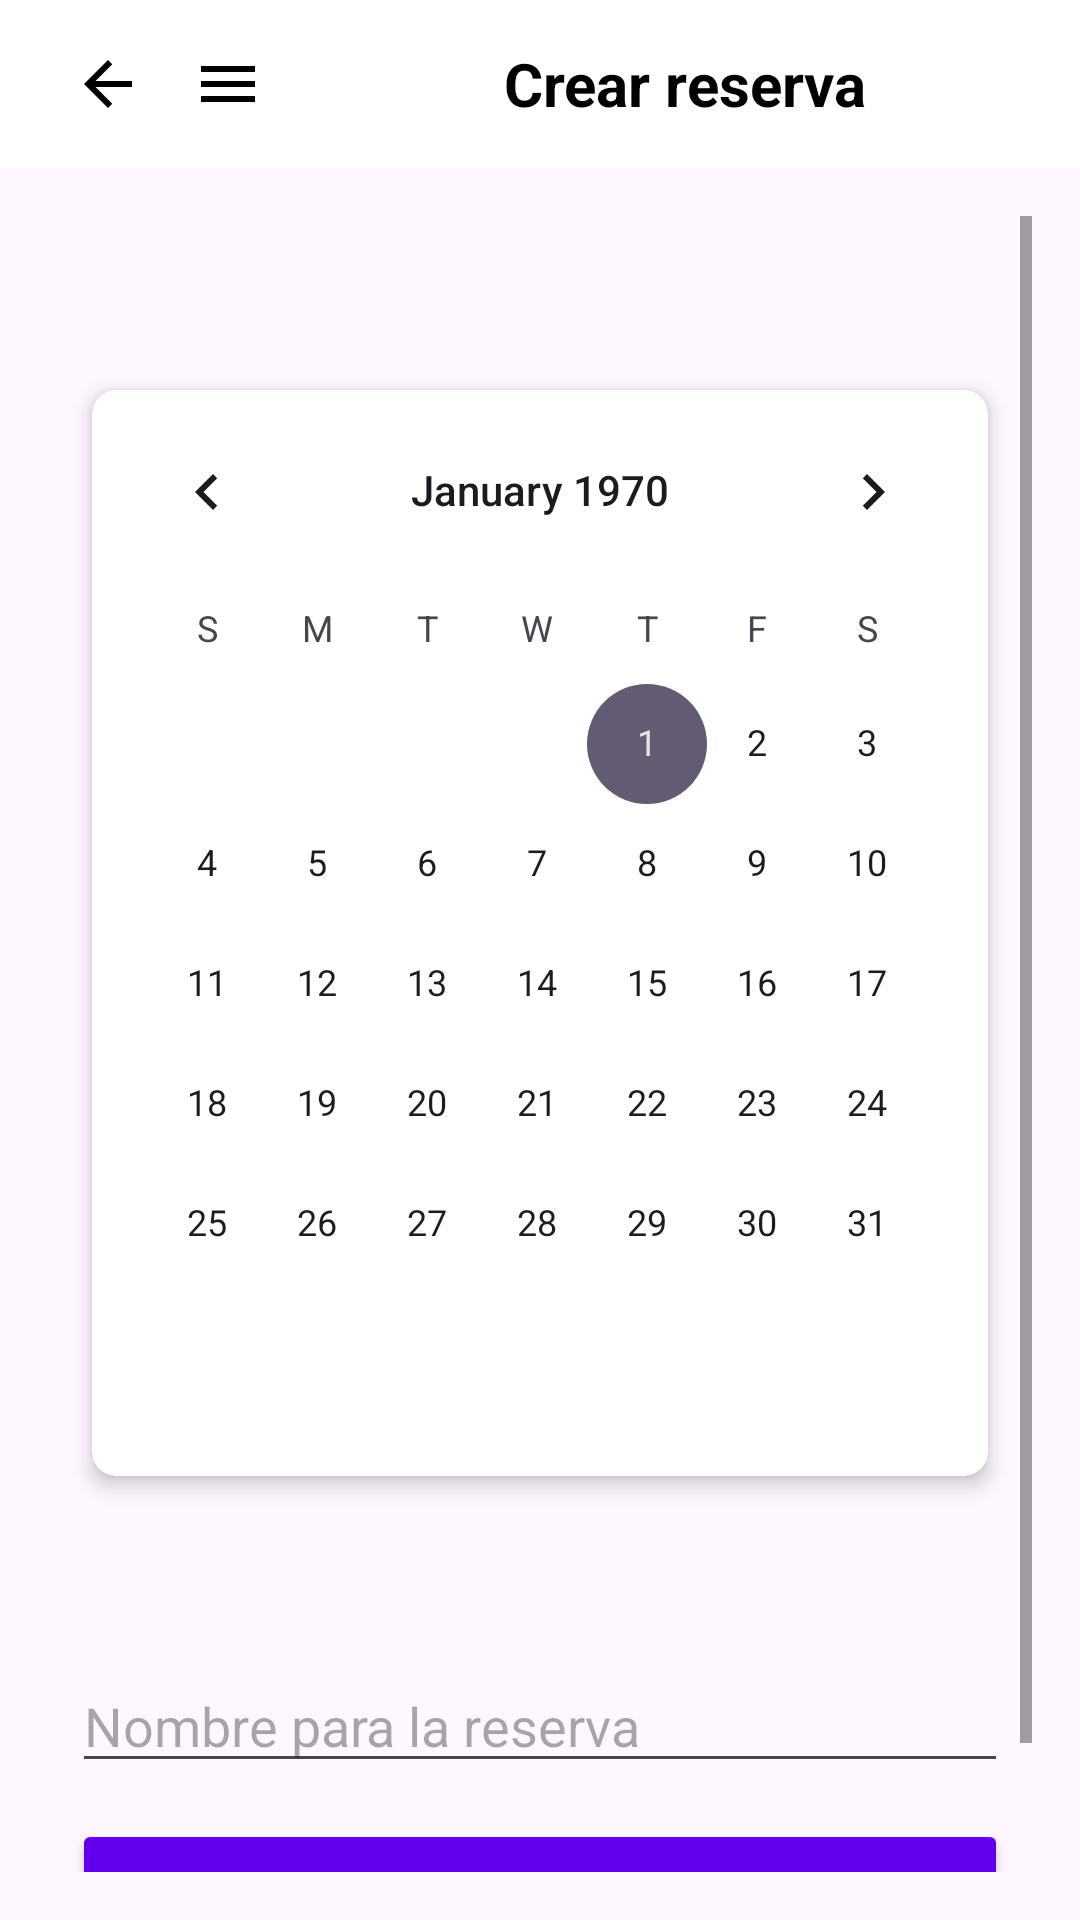

Icon click points for this 1080 x 1920 phone screenshot, format (x=x, y=y):
Atrás: (x=108, y=84)
Menú: (x=228, y=84)
